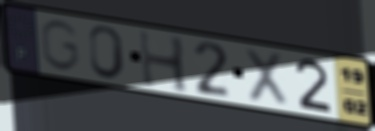0: (87, 24, 127, 81)
2: (191, 40, 232, 100), (293, 57, 334, 116)
G: (38, 18, 82, 73)
H: (136, 27, 192, 97)
X: (241, 45, 290, 110)
